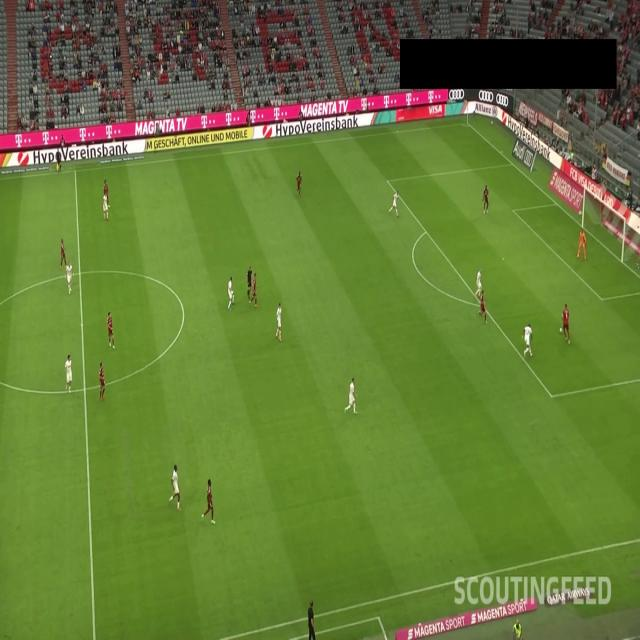ball: (558, 324, 564, 337)
player: (170, 461, 182, 509), (202, 477, 215, 521), (64, 356, 74, 395), (348, 376, 358, 413), (524, 320, 533, 360), (97, 359, 105, 401), (107, 309, 116, 345), (276, 303, 284, 342), (562, 302, 570, 339), (101, 178, 110, 209), (578, 228, 587, 258), (482, 182, 491, 212), (294, 168, 304, 192), (475, 271, 483, 300), (228, 276, 235, 308), (66, 262, 73, 293), (392, 189, 400, 214), (252, 271, 258, 304), (102, 192, 109, 219), (59, 238, 66, 265), (480, 293, 486, 321)
